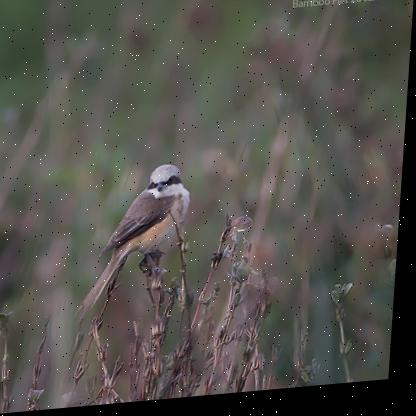Burung: (76, 161, 198, 328)
